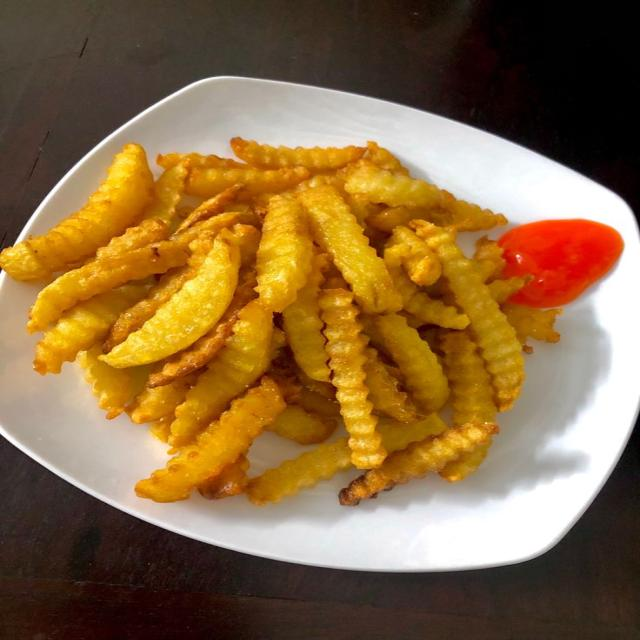potato fries: (0, 138, 561, 504), (413, 222, 524, 411), (0, 145, 153, 280), (101, 232, 239, 367), (136, 378, 285, 501), (170, 301, 273, 446), (27, 241, 188, 332), (299, 186, 401, 313), (340, 424, 499, 505), (320, 290, 386, 468), (34, 286, 146, 374), (374, 314, 449, 413), (247, 438, 351, 504), (256, 196, 312, 311), (283, 255, 330, 382), (440, 332, 496, 425), (79, 345, 148, 419), (230, 138, 365, 171), (187, 167, 310, 198), (143, 162, 188, 225), (268, 404, 337, 444)
